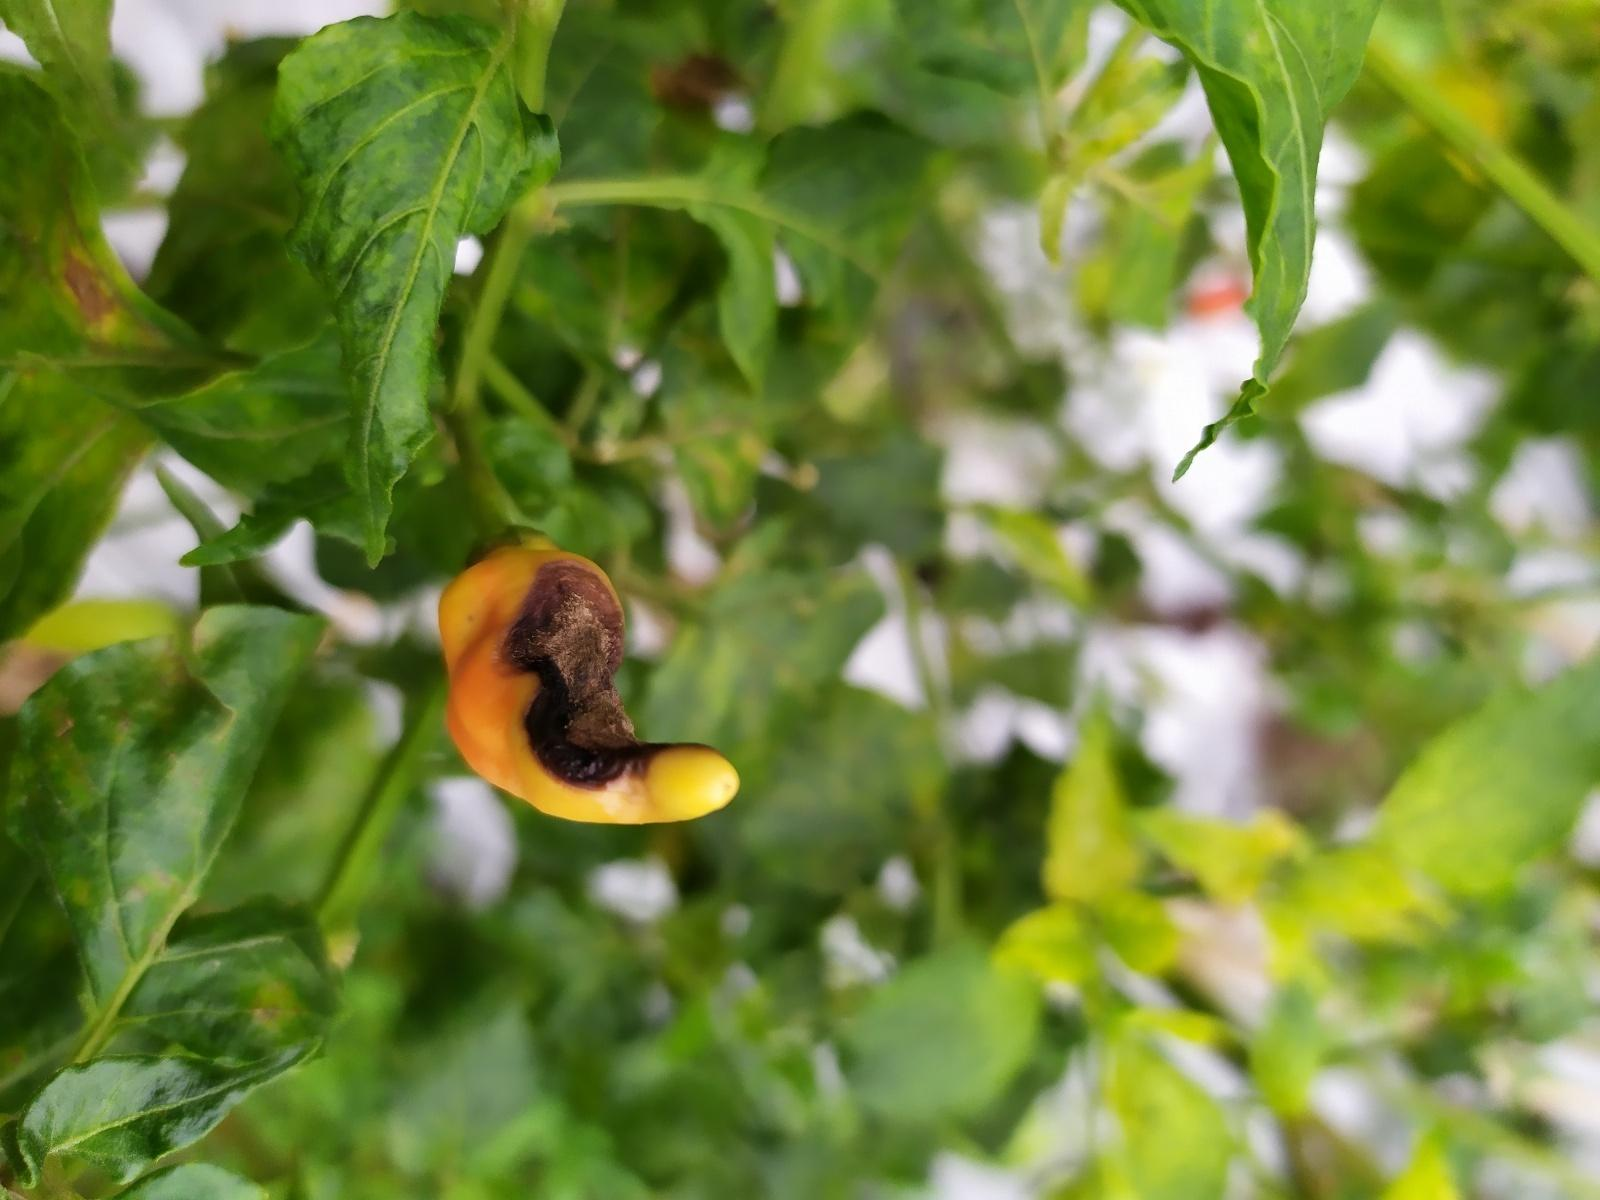antraknosa: (438, 548, 741, 823)
